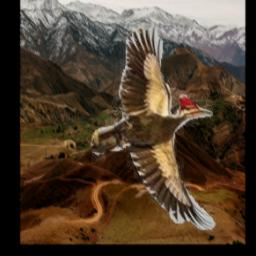Woodpecker: (87, 24, 216, 233)
